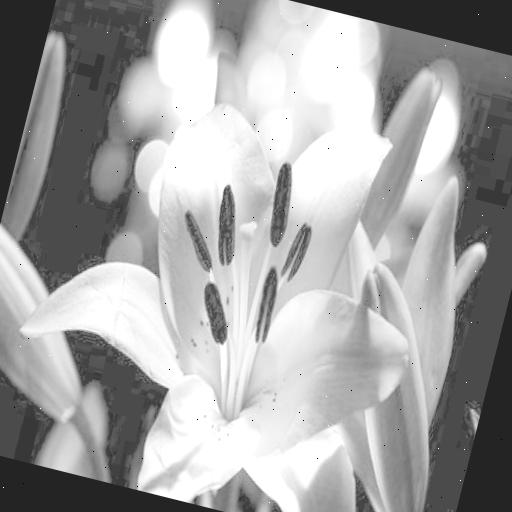tulip: (0, 65, 457, 512)
